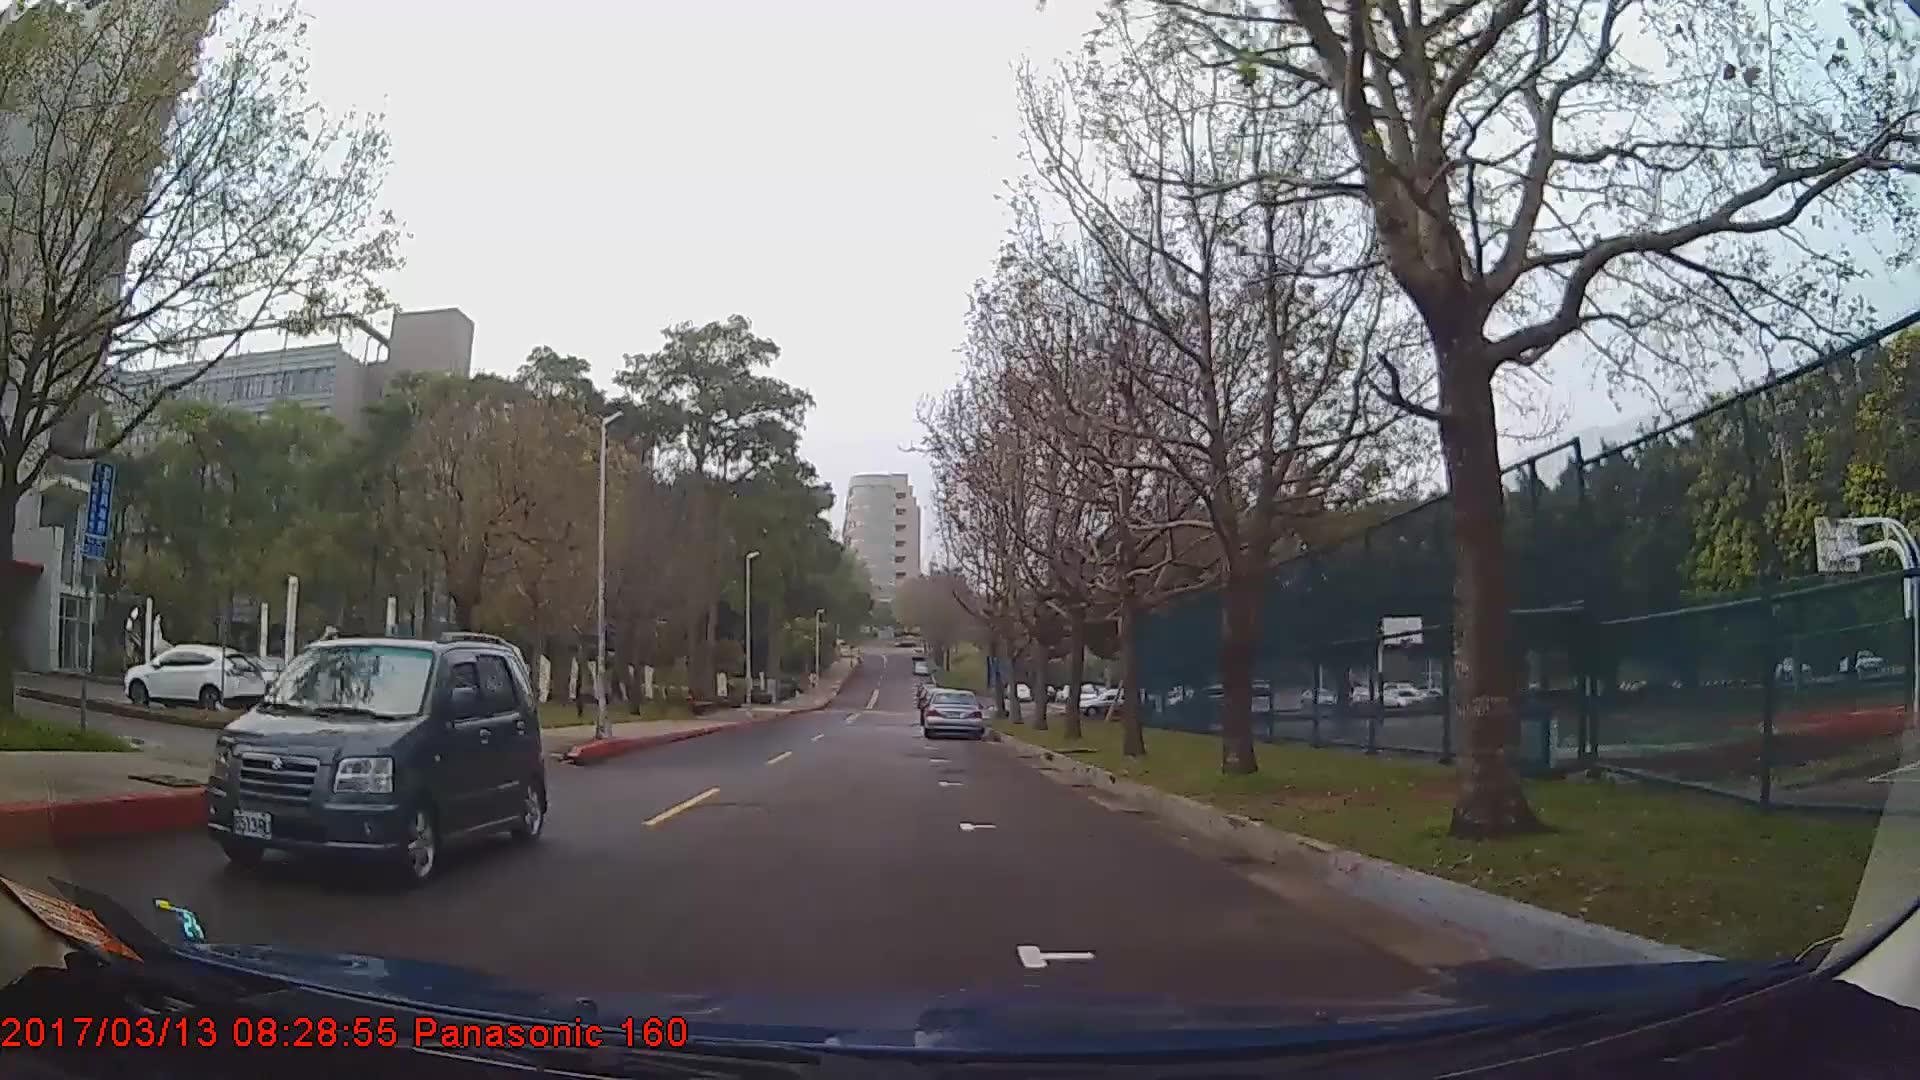vehicle: (198, 636, 546, 891), (121, 642, 262, 708), (920, 687, 985, 741)
